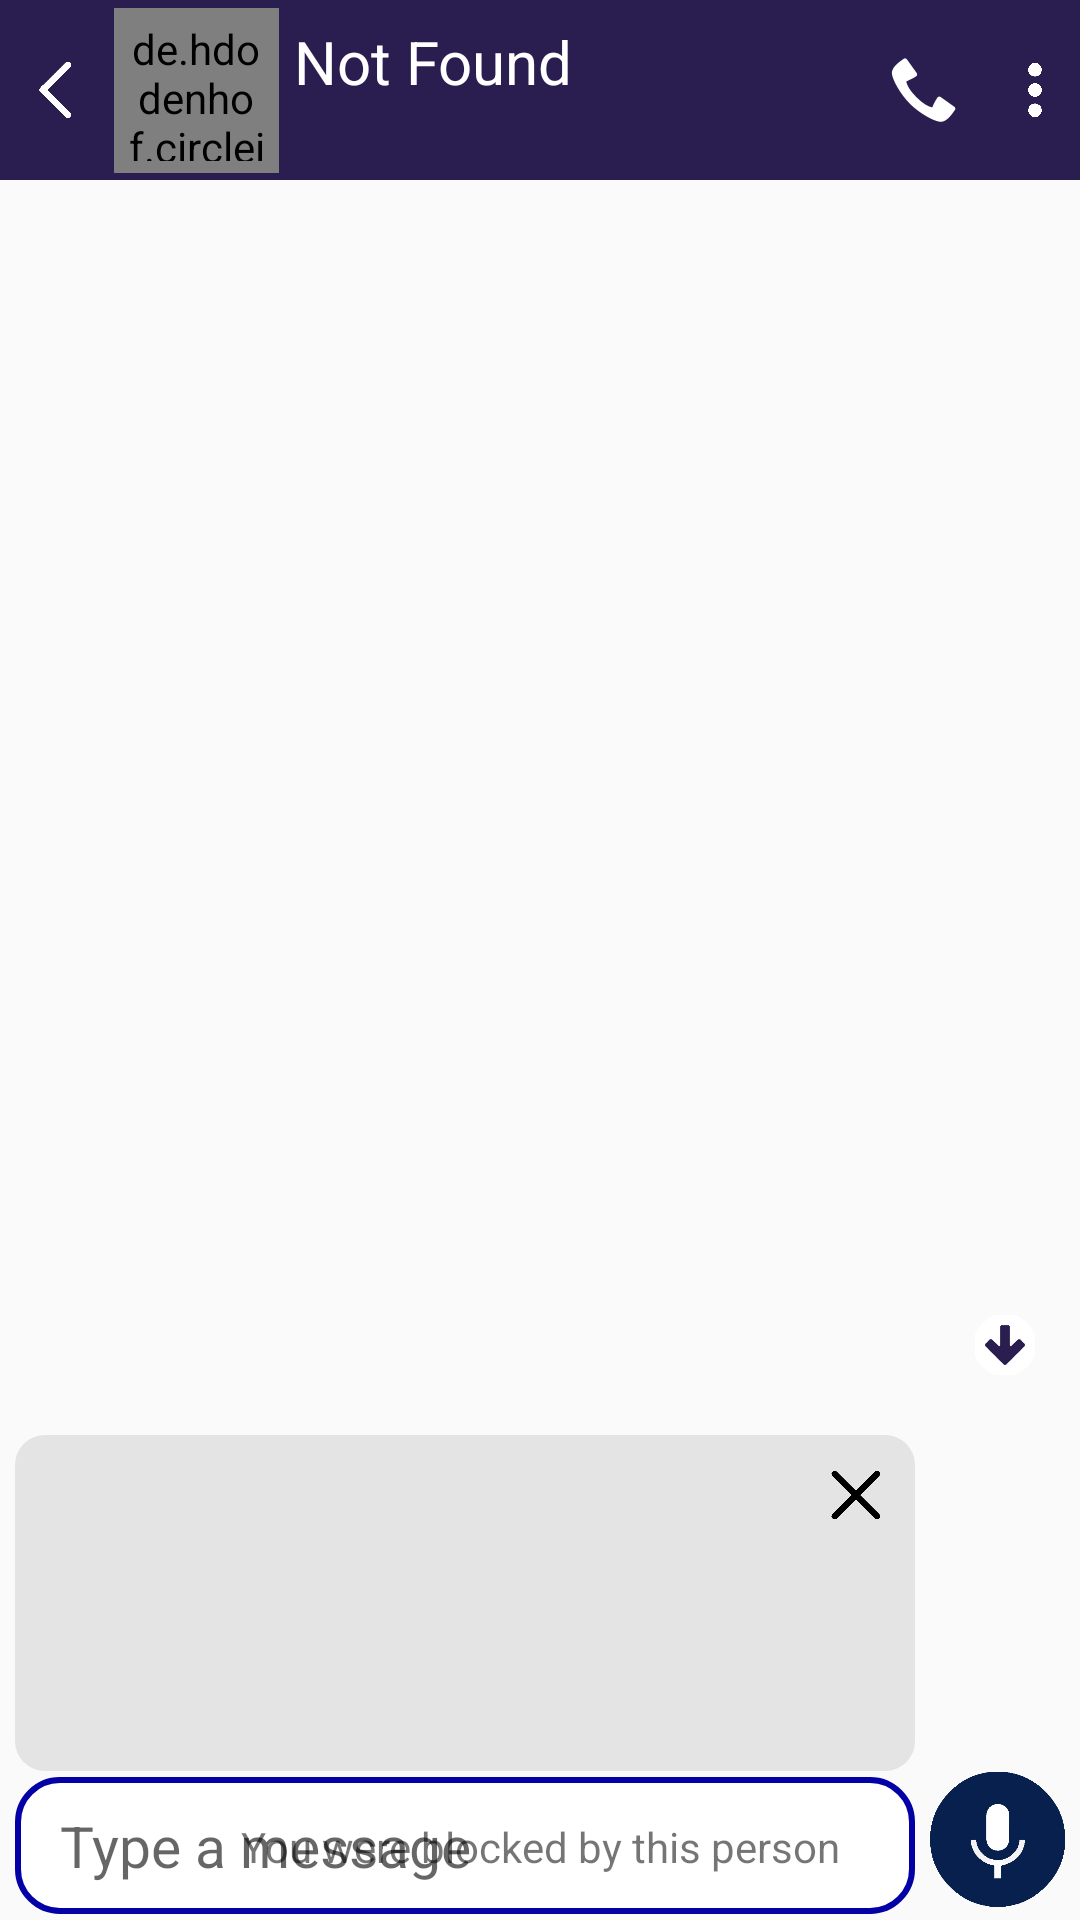

Locate icon controls on the screen. Image size 1080 × 1920, boxes as box(x1, y1, x2, y2).
back: box(39, 62, 71, 118)
cross: box(831, 1471, 880, 1519)
option: box(1028, 63, 1042, 117)
phone call: box(892, 58, 956, 122)
voice: box(930, 1772, 1065, 1907)
